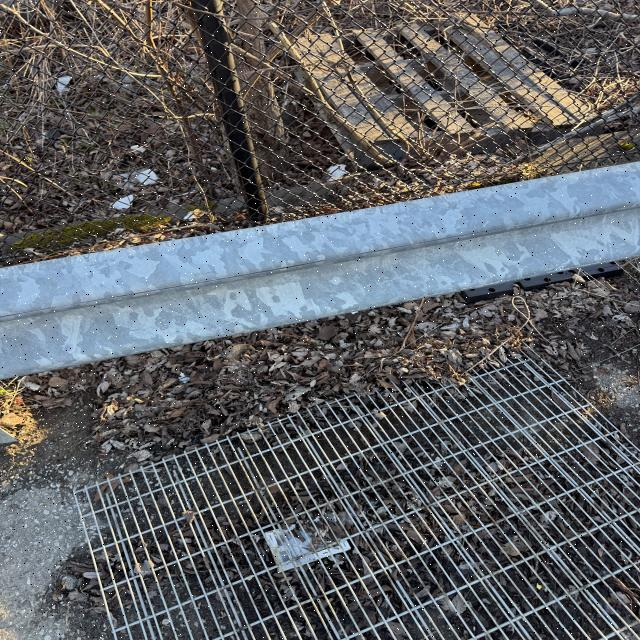Guard rail: (30, 170, 633, 354)
